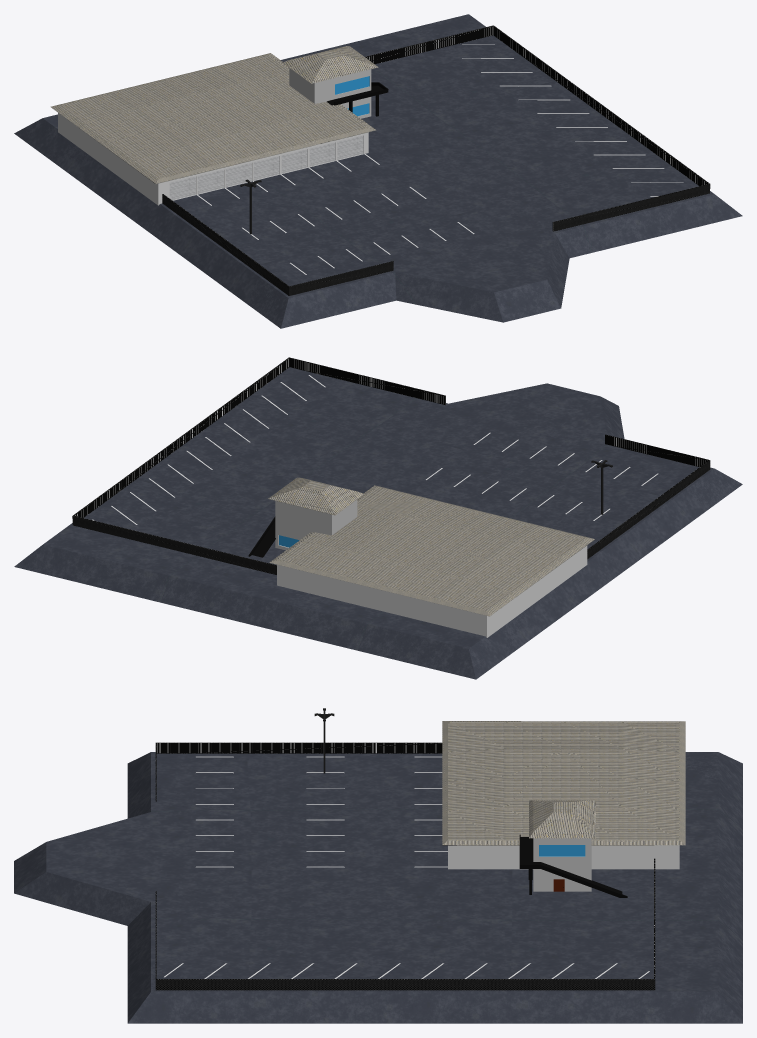
Rendered from truckerBase.fbx.
3 views of the same model, one above another, from view 1: azimuth 30°, elevation 25°; view 2: azimuth 150°, elevation 25°; view 3: azimuth 270°, elevation 25° (orthographic). The views are drawn at different scales.
Visible parts, largest first — view 1: Plane, Cube, Plane.049, Plane.002, Cube.002, Plane.001; view 2: Plane, Cube, Plane.049, Plane.002, Cube.002; view 3: Plane, Plane.049, Cube, Plane.002, Cube.002, Plane.001.
Part boxes in pixels (left/top/right/bottom): Plane: left=43, top=14, right=714, bottom=297; Cube: left=50, top=53, right=376, bottom=205; Plane.049: left=14, top=118, right=742, bottom=328; Plane.002: left=162, top=25, right=710, bottom=295; Cube.002: left=282, top=46, right=378, bottom=118; Plane.001: left=327, top=82, right=388, bottom=116; Plane: left=43, top=367, right=714, bottom=648; Cube: left=269, top=485, right=594, bottom=637; Plane.049: left=14, top=397, right=742, bottom=679; Plane.002: left=72, top=357, right=710, bottom=574; Cube.002: left=268, top=477, right=364, bottom=550; Plane: left=46, top=752, right=718, bottom=991; Plane.049: left=14, top=752, right=742, bottom=1023; Cube: left=442, top=721, right=685, bottom=869; Plane.002: left=155, top=742, right=655, bottom=990; Cube.002: left=529, top=800, right=595, bottom=891; Plane.001: left=519, top=834, right=627, bottom=897.
Bounding box in the file's own units: 9925 × 1605 × 11759.
